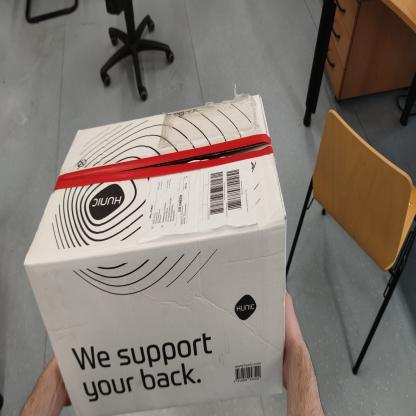-: (19, 91, 320, 416)
